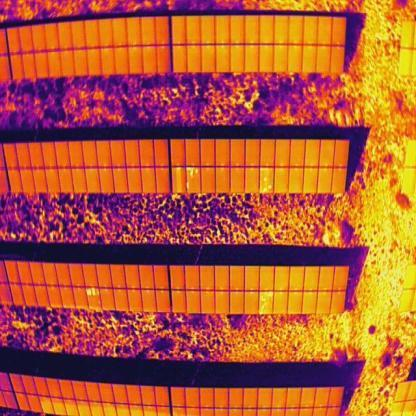anomaly: (258, 290, 275, 314), (259, 176, 273, 192), (85, 286, 99, 299), (188, 168, 201, 181), (176, 168, 182, 195)
